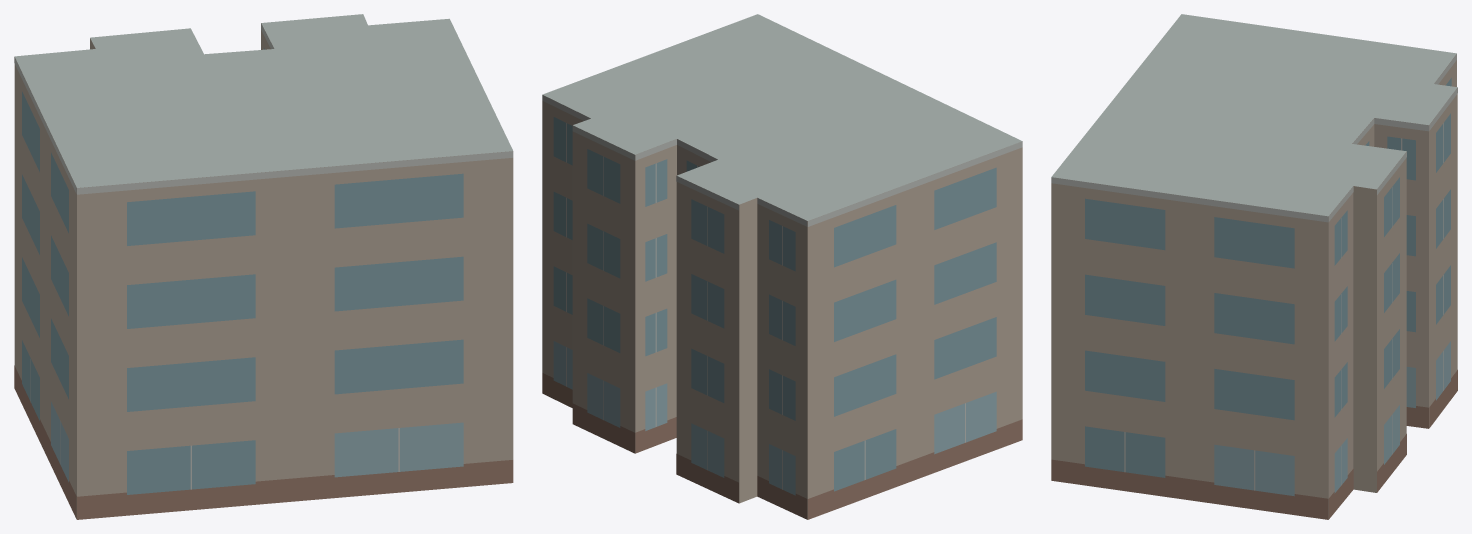
File: survey-upis-32839190.glb
The picture shows the model from 3 angles, left to right: view 1: azimuth 30°, elevation 25°; view 2: azimuth 150°, elevation 25°; view 3: azimuth 270°, elevation 25°; orthographic projection. The views are drawn at different scales.
Parts seen in each view (by area): view 1: survey-upis-32839190.tmp; view 2: survey-upis-32839190.tmp; view 3: survey-upis-32839190.tmp.
Boxes of the visible parts, x1=… form: survey-upis-32839190.tmp: x1=14, y1=14, x2=513, y2=519; survey-upis-32839190.tmp: x1=542, y1=14, x2=1022, y2=519; survey-upis-32839190.tmp: x1=1051, y1=14, x2=1457, y2=519.
Size of the model in its own units: 17.3 by 12.1 by 14.69.
